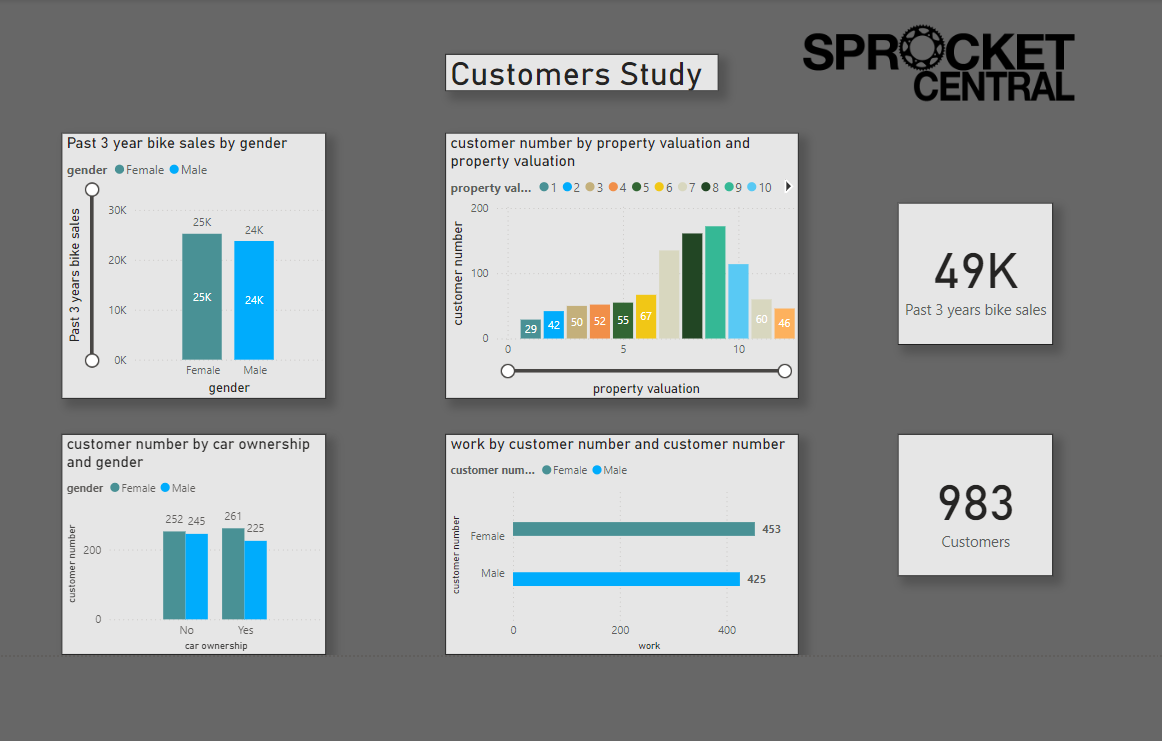

The page's visual inventory and layout, read from the dashboard file:
{"tool":"powerbi","page":{"name":"Demographic Study","canvas":[1280,720],"ordinal":1},"visuals":[{"type":"image","box":[877.5,8.2,318.1,144],"z":0},{"type":"textbox","title":"Customers Study","box":[489.5,60.3,300.3,41.1],"z":1000},{"type":"columnChart","title":"Past 3 year bike sales by gender","fields":{"Category":["NewCustomerList.gender"],"Y":["Sum(NewCustomerList.past_3_years_bike_related_purchases)"],"Series":["NewCustomerList.gender"]},"box":[68.6,146.7,290.7,292],"z":2000},{"type":"columnChart","fields":{"Category":["NewCustomerList.property_valuation"],"Y":["CountNonNull(NewCustomerList.Age)"],"Series":["NewCustomerList.property_valuation"]},"box":[489.5,146.7,388,292],"z":3000},{"type":"card","fields":{"Values":["Sum(NewCustomerList.past_3_years_bike_related_purchases)"]},"box":[987.2,223.5,170,156.3],"z":4000},{"type":"clusteredColumnChart","fields":{"Category":["NewCustomerList.owns_car"],"Y":["CountNonNull(NewCustomerList.gender)"],"Series":["NewCustomerList.gender"]},"box":[68.6,477.1,290.7,242.7],"z":5000},{"type":"clusteredBarChart","fields":{"Category":["NewCustomerList.gender"],"Y":["CountNonNull(NewCustomerList.job_title)"],"Series":["NewCustomerList.gender"]},"box":[489.5,477.1,388,242.7],"z":6000},{"type":"card","fields":{"Values":["CountNonNull(NewCustomerList.Age)"]},"box":[987.2,477.1,170,156.3],"z":7000}]}

Visuals, with their boxes on the page's 1280x720 design canvas (x1, y1, x2, y2). These are canvas units, not pixel positions in the 1162x741 screenshot, which may show the page scaled, cropped or inside an application window:
image: [x1=878, y1=8, x2=1196, y2=152]
"Customers Study" textbox: [x1=490, y1=60, x2=790, y2=101]
"Past 3 year bike sales by gender" columnChart: [x1=69, y1=147, x2=359, y2=439]
columnChart - NewCustomerList.property_valuation x CountNonNull(NewCustomerList.Age): [x1=490, y1=147, x2=878, y2=439]
card - Sum(NewCustomerList.past_3_years_bike_related_purchases): [x1=987, y1=224, x2=1157, y2=380]
clusteredColumnChart - NewCustomerList.owns_car x CountNonNull(NewCustomerList.gender): [x1=69, y1=477, x2=359, y2=720]
clusteredBarChart - NewCustomerList.gender x CountNonNull(NewCustomerList.job_title): [x1=490, y1=477, x2=878, y2=720]
card - CountNonNull(NewCustomerList.Age): [x1=987, y1=477, x2=1157, y2=633]
